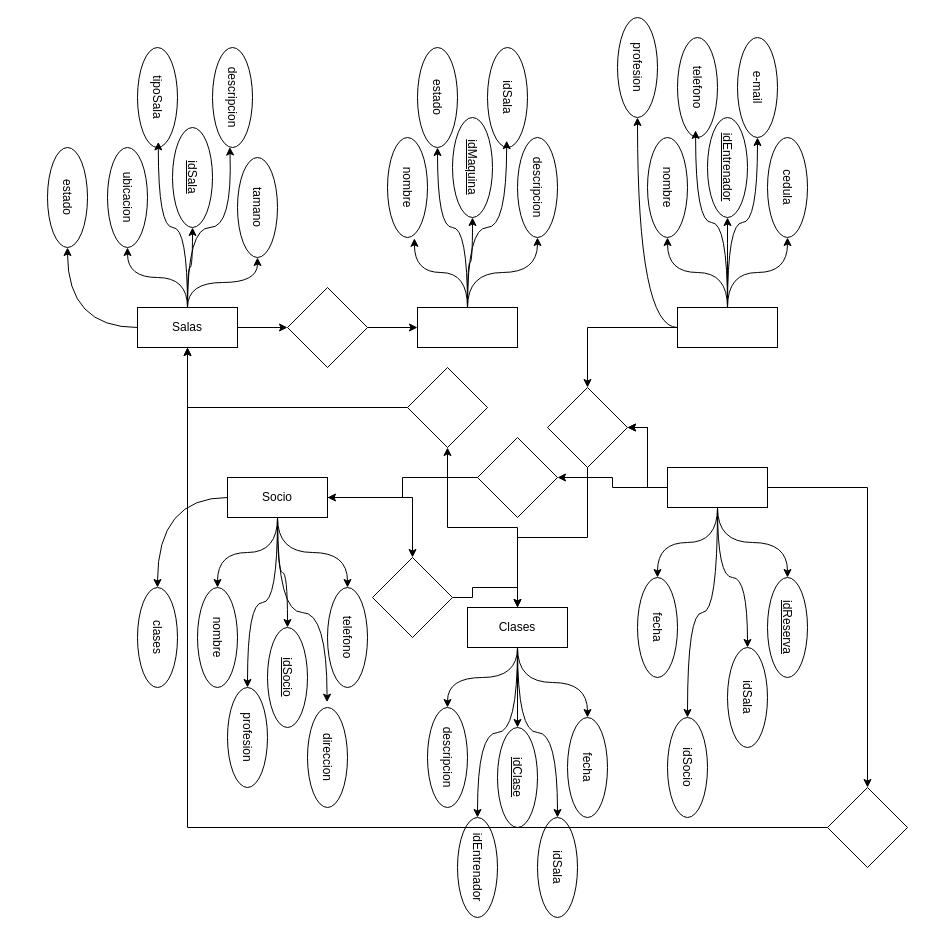
This 925x935 diagram has some shape labels left out. Each missing label, with the box of its shape:
asigna: (826, 786, 908, 868)
dicta: (406, 366, 488, 448)
Entrenador: (676, 306, 778, 348)
imparte: (546, 386, 628, 468)
inscribe: (372, 556, 452, 638)
Máquinas: (416, 306, 518, 348)
realiza: (476, 436, 558, 518)
Reserva: (666, 466, 768, 508)
tiene: (286, 286, 368, 368)
